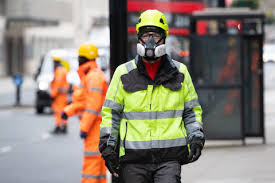Helmet: (137, 9, 168, 33)
Jacket: (119, 63, 186, 160), (72, 66, 104, 158)
Mask: (139, 40, 163, 58)
